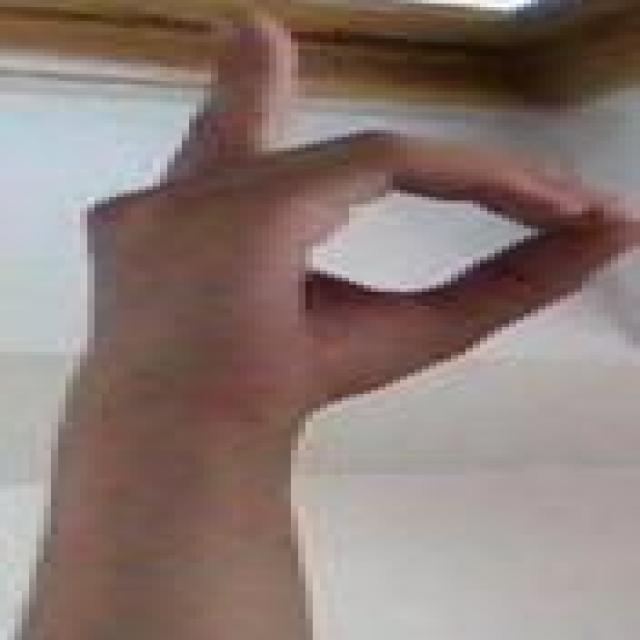D1: (10, 1, 640, 416)
